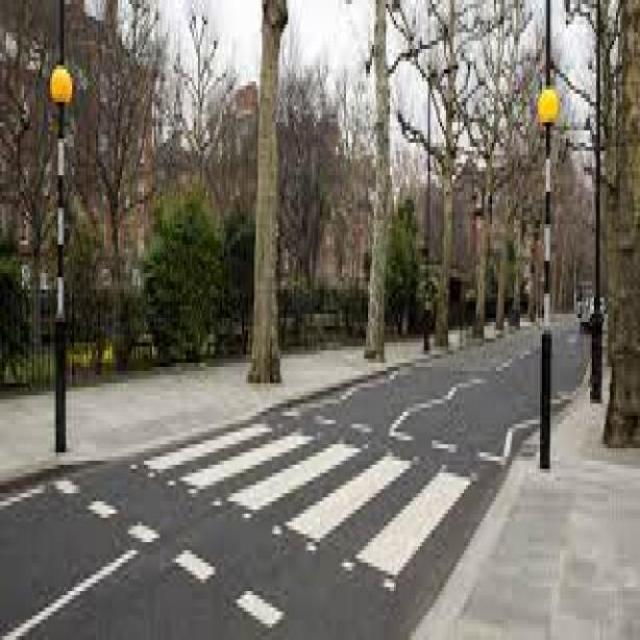pedestrian lane: (146, 423, 471, 579)
